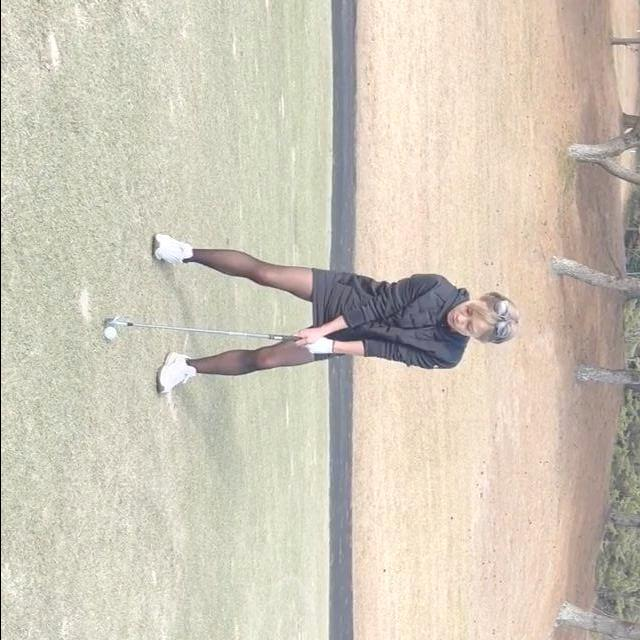golf ball: (102, 326, 115, 340)
golf club-handle: (103, 307, 306, 342)
golf club-head: (102, 312, 119, 327)
